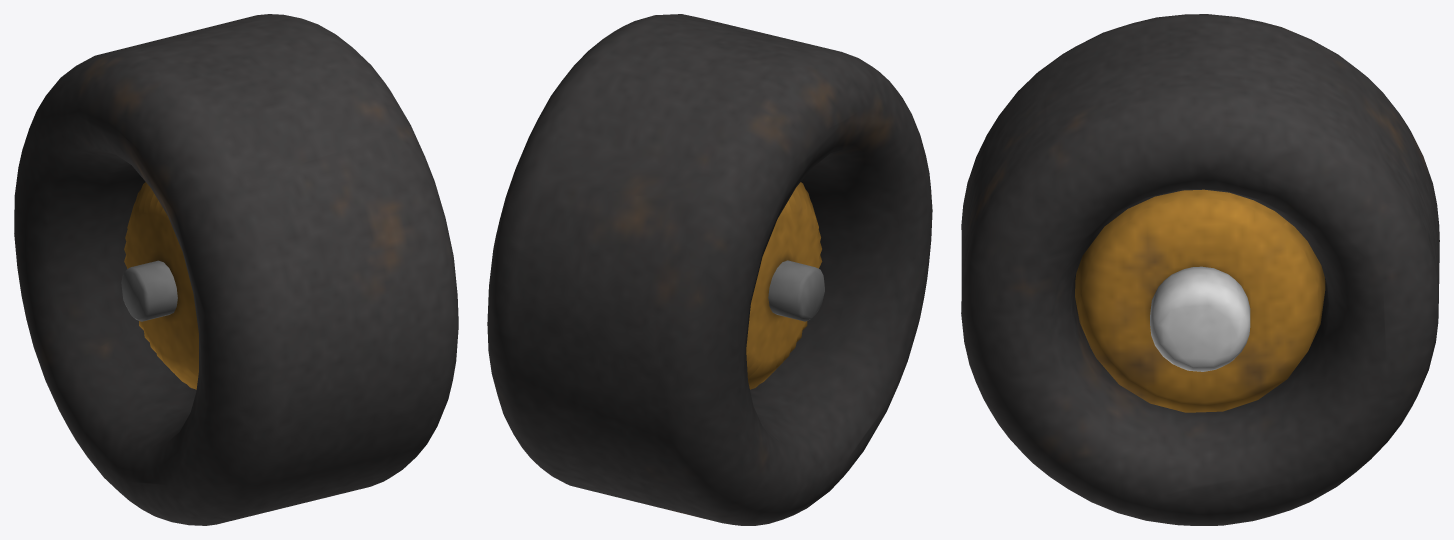
3 views of the same model, side by side, from view 1: azimuth 30°, elevation 25°; view 2: azimuth 150°, elevation 25°; view 3: azimuth 270°, elevation 25° (orthographic).
Parts seen in each view (by area): view 1: wheel_FL; view 2: wheel_FL; view 3: wheel_FL.
Part boxes in pixels (x1,y1,x2,y2): wheel_FL: (14, 14, 458, 525); wheel_FL: (487, 14, 932, 525); wheel_FL: (961, 14, 1439, 525).
Bounding box in the file's own units: 0.1862 × 0.3089 × 0.3094.
Materials: 1 (1 with a texture image).
